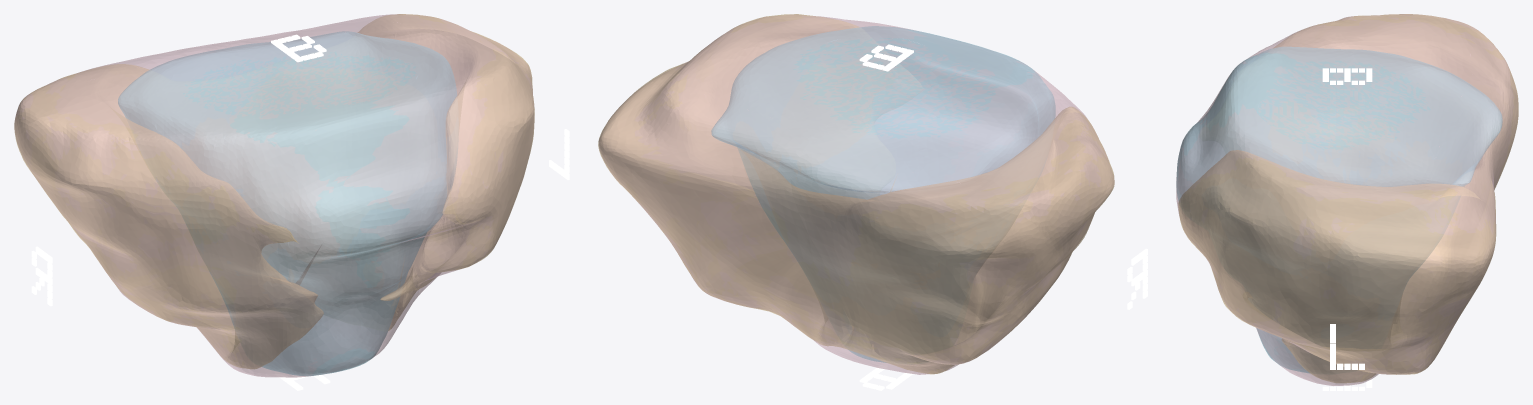
3 views of the same model, side by side, from view 1: azimuth 30°, elevation 25°; view 2: azimuth 150°, elevation 25°; view 3: azimuth 270°, elevation 25° (orthographic). The views are drawn at different scales.
Parts seen in each view (by area): view 1: prostate_gland, peripheral_zone, transition_zone, pv_ar_marker_B, pv_ar_marker_R; view 2: prostate_gland, peripheral_zone, transition_zone, pv_ar_marker_B, pv_ar_marker_R, pv_ar_marker_A; view 3: prostate_gland, peripheral_zone, transition_zone, pv_ar_marker_B, pv_ar_marker_L.
Part boxes in pixels (left/top/right/bottom): prostate_gland: left=14, top=14, right=534, bottom=377; peripheral_zone: left=14, top=14, right=534, bottom=368; transition_zone: left=118, top=31, right=458, bottom=375; pv_ar_marker_B: left=271, top=34, right=326, bottom=62; pv_ar_marker_R: left=31, top=246, right=52, bottom=306; prostate_gland: left=599, top=15, right=1114, bottom=374; peripheral_zone: left=598, top=14, right=1114, bottom=374; transition_zone: left=711, top=26, right=1055, bottom=362; pv_ar_marker_B: left=859, top=44, right=913, bottom=71; pv_ar_marker_R: left=1127, top=248, right=1147, bottom=309; pv_ar_marker_A: left=859, top=364, right=913, bottom=390; prostate_gland: left=1176, top=14, right=1517, bottom=385; peripheral_zone: left=1178, top=14, right=1518, bottom=382; transition_zone: left=1176, top=47, right=1502, bottom=373; pv_ar_marker_B: left=1322, top=68, right=1372, bottom=84; pv_ar_marker_L: left=1330, top=324, right=1364, bottom=369.
Size of the model in its own units: 0.0544 by 0.0331 by 0.0334.
